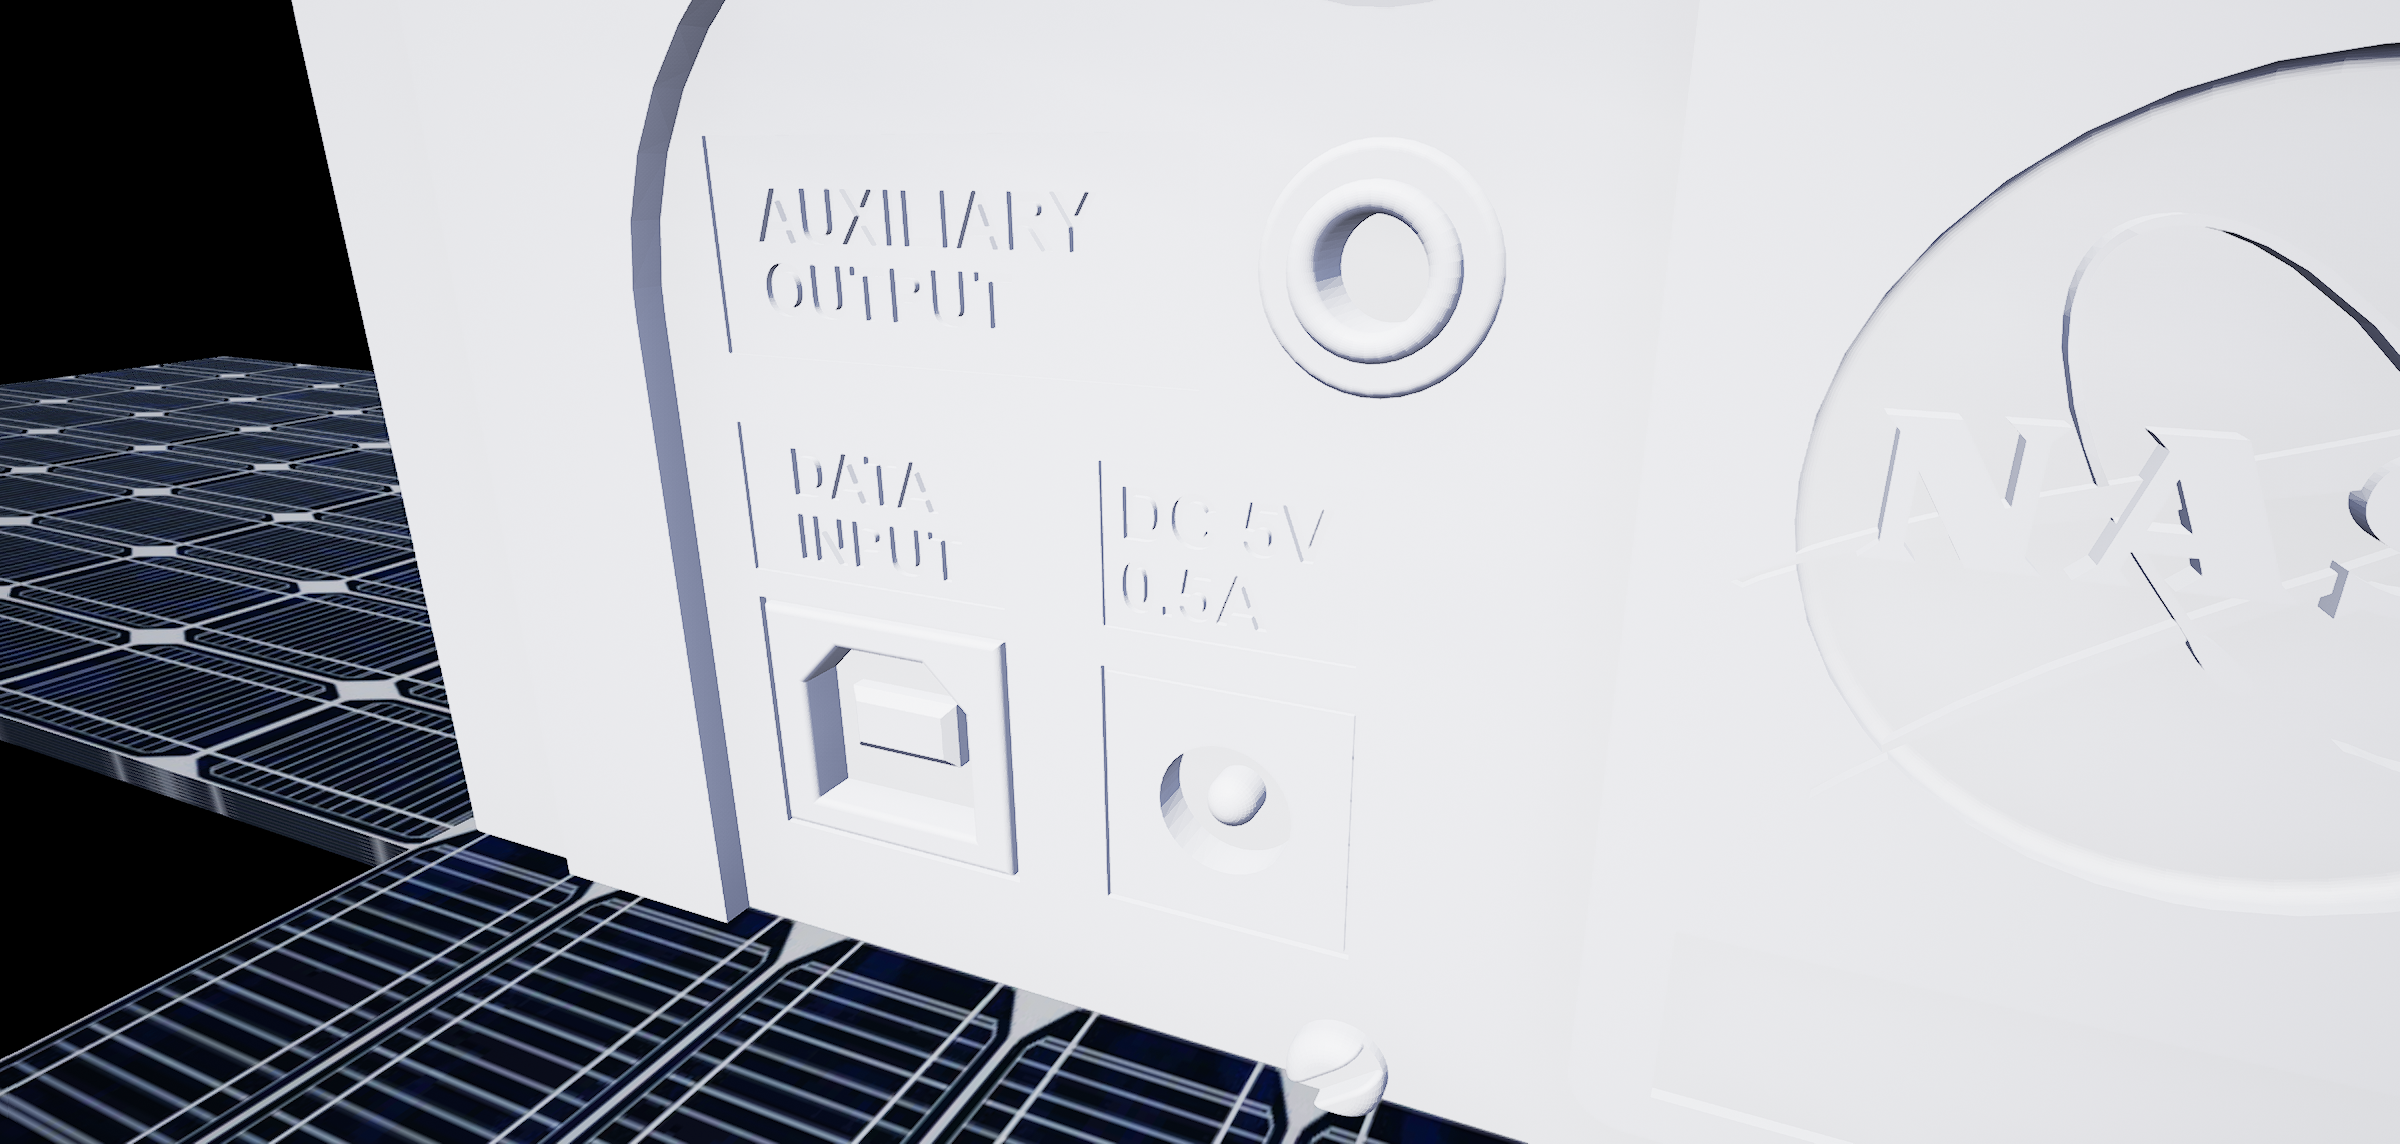aux: (1241, 136, 1515, 407)
dc: (1130, 735, 1293, 882)
usb: (787, 614, 999, 841)
